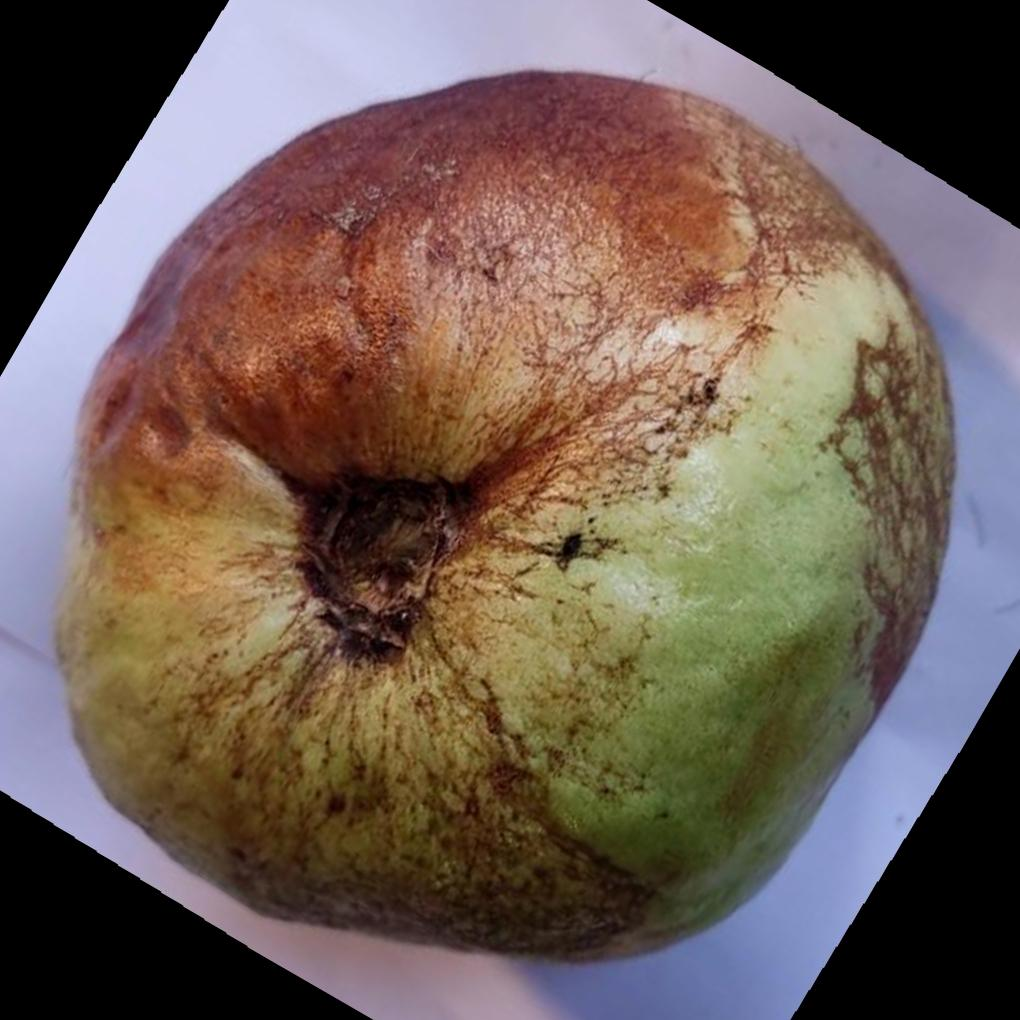FreshOrange: (46, 65, 954, 962)
